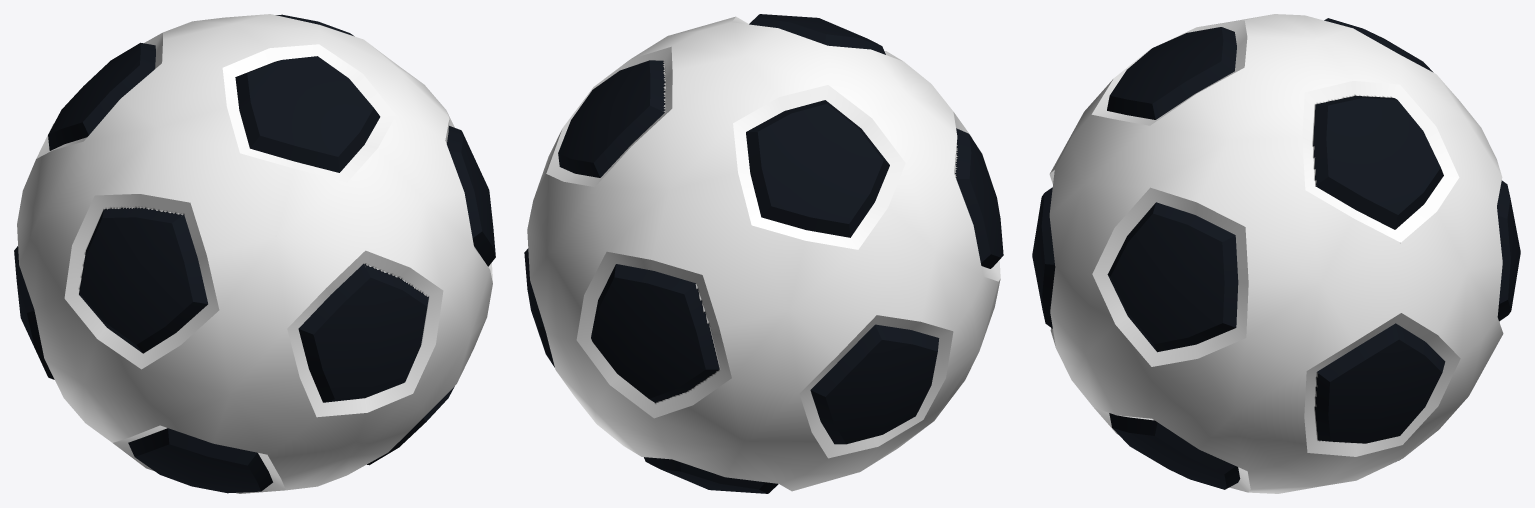
The model's file is football.glb.
3 views of the same model, side by side, from view 1: azimuth 30°, elevation 25°; view 2: azimuth 150°, elevation 25°; view 3: azimuth 270°, elevation 25° (orthographic).
Parts seen in each view (by area): view 1: SoccerV1; view 2: SoccerV1; view 3: SoccerV1.
Boxes of the visible parts, left/top/right/bottom form: SoccerV1: left=14, top=14, right=495, bottom=493; SoccerV1: left=524, top=14, right=1003, bottom=493; SoccerV1: left=1032, top=14, right=1520, bottom=493.
Bounding box in the file's own units: 1.84 × 1.82 × 1.86.
Materials: 1 (1 with a texture image).
